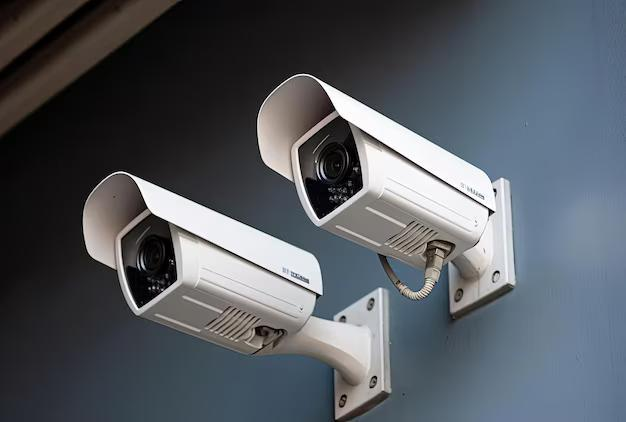------------------------------: (56, 169, 331, 358), (251, 69, 492, 277)
